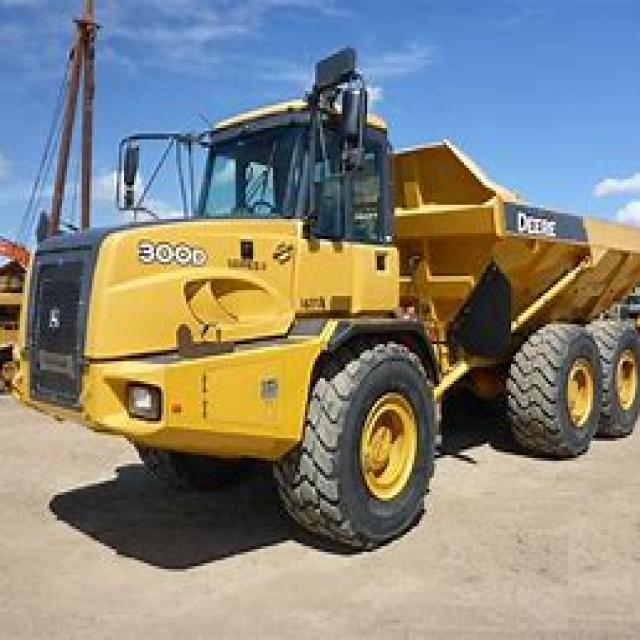dump_truck: (18, 74, 638, 540)
